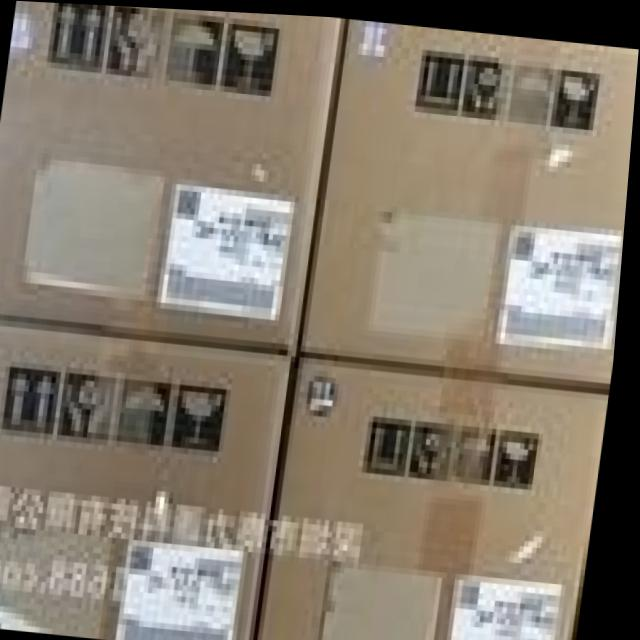box: (300, 18, 639, 383), (0, 1, 344, 348), (268, 354, 615, 640), (0, 325, 302, 640)
